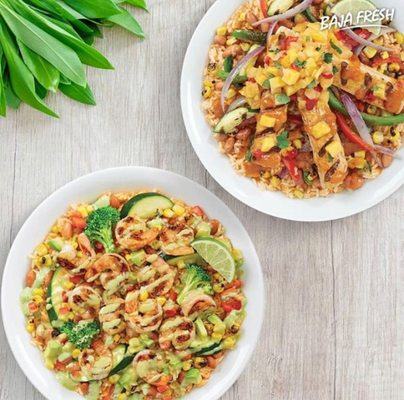curry: (84, 206, 121, 254), (175, 263, 215, 304), (57, 319, 101, 349)
sushi: (5, 165, 261, 393), (180, 3, 404, 221)
